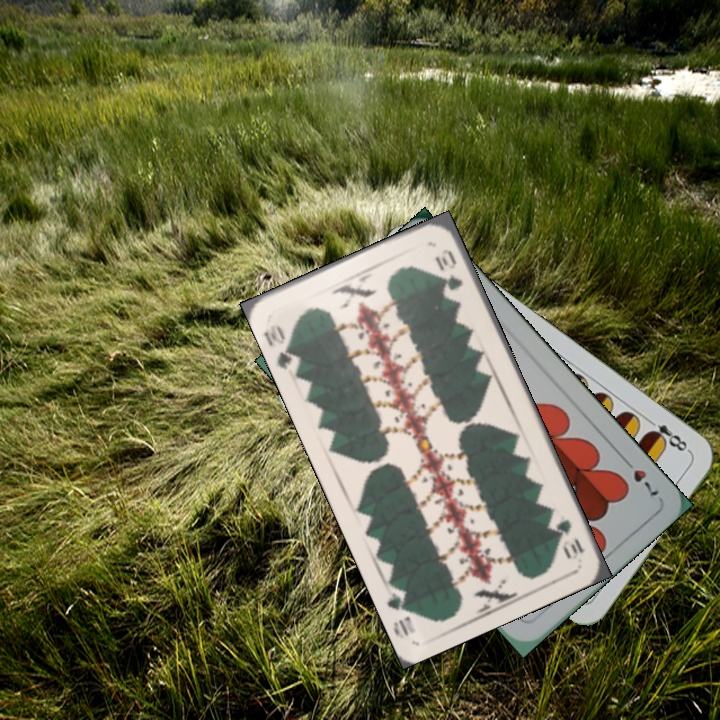E8: (643, 414, 693, 455)
G10: (260, 320, 303, 372), (552, 515, 587, 563)
H7: (617, 452, 662, 499)
